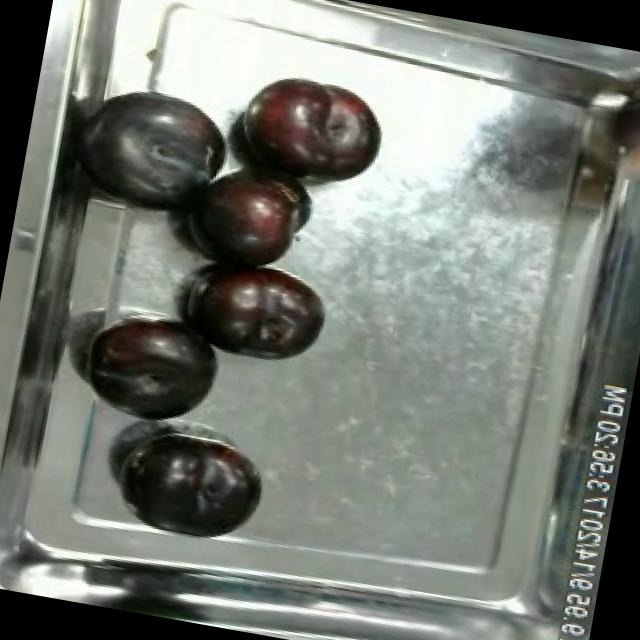Fruit: (222, 62, 394, 200), (75, 73, 241, 207), (174, 248, 340, 376), (114, 422, 275, 552), (83, 302, 228, 428), (177, 152, 316, 282), (587, 76, 640, 204)
